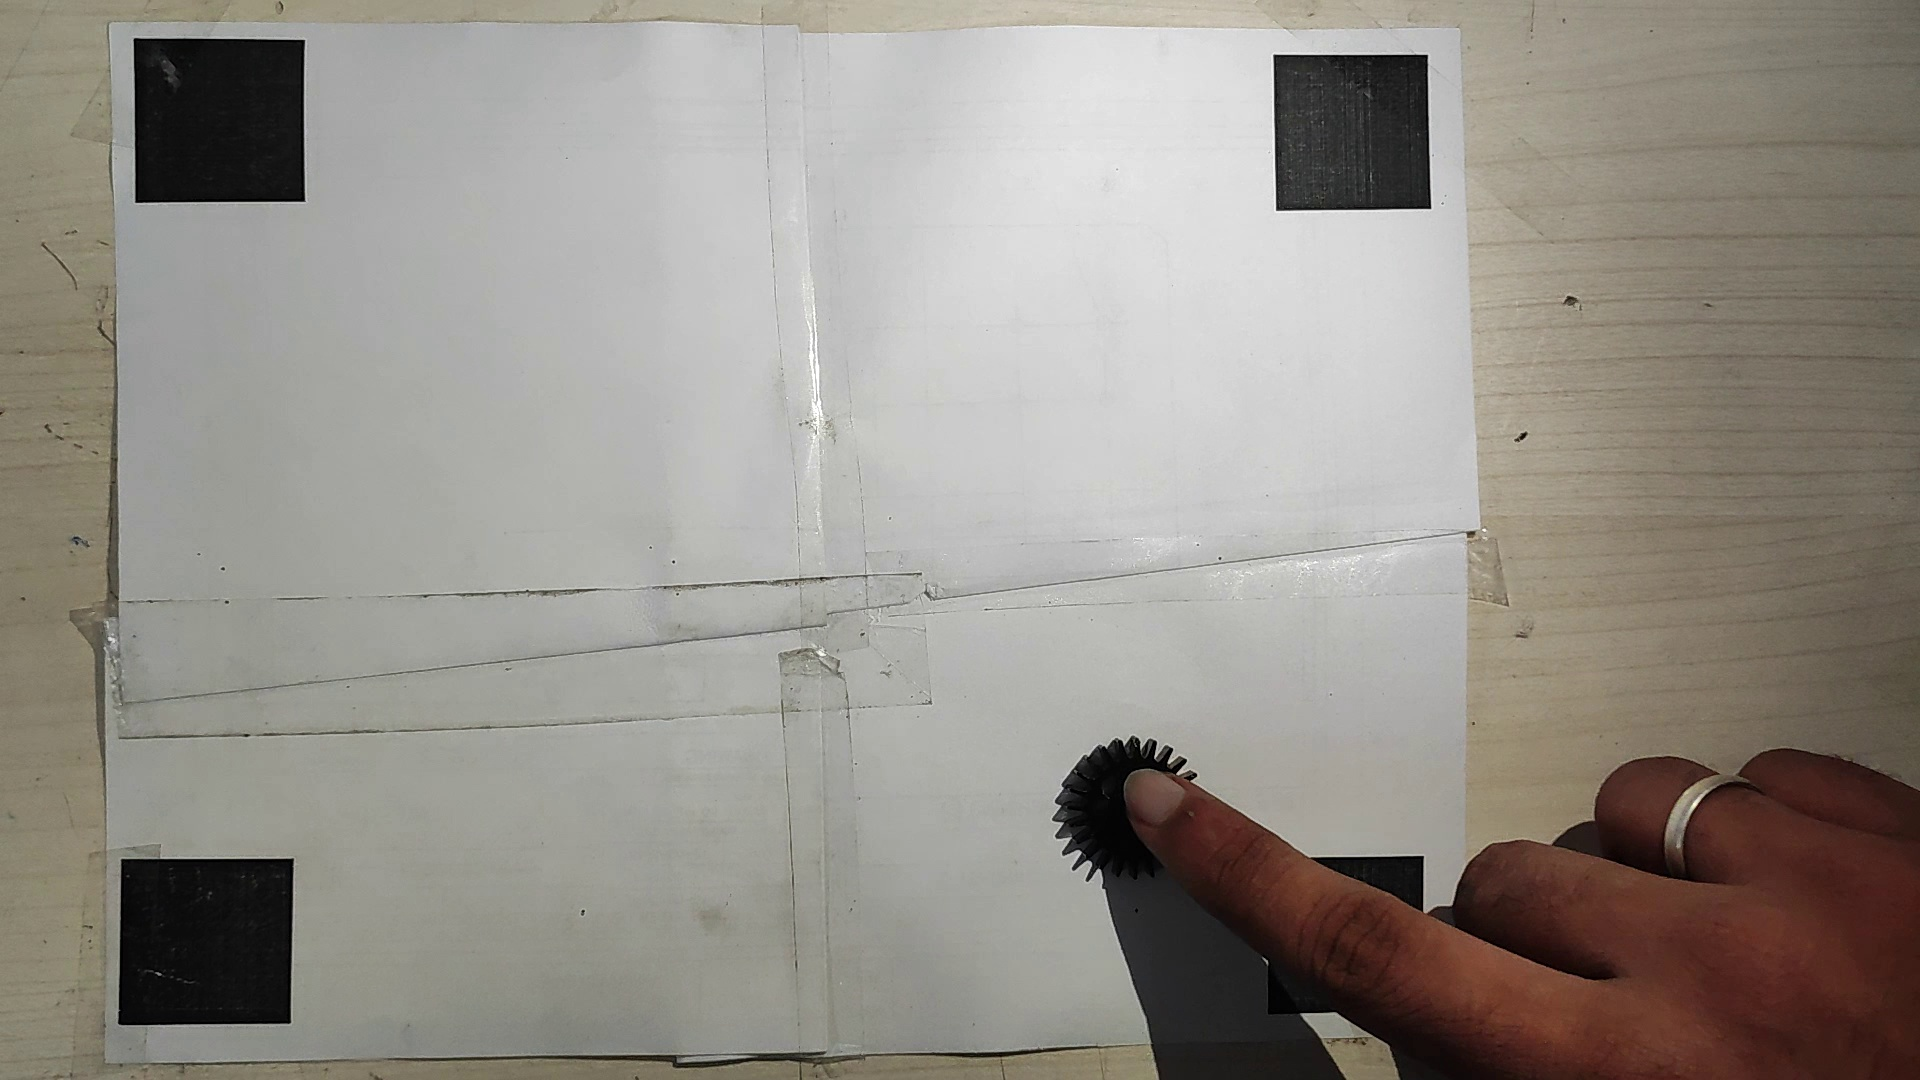Gear: (1051, 735, 1199, 889)
